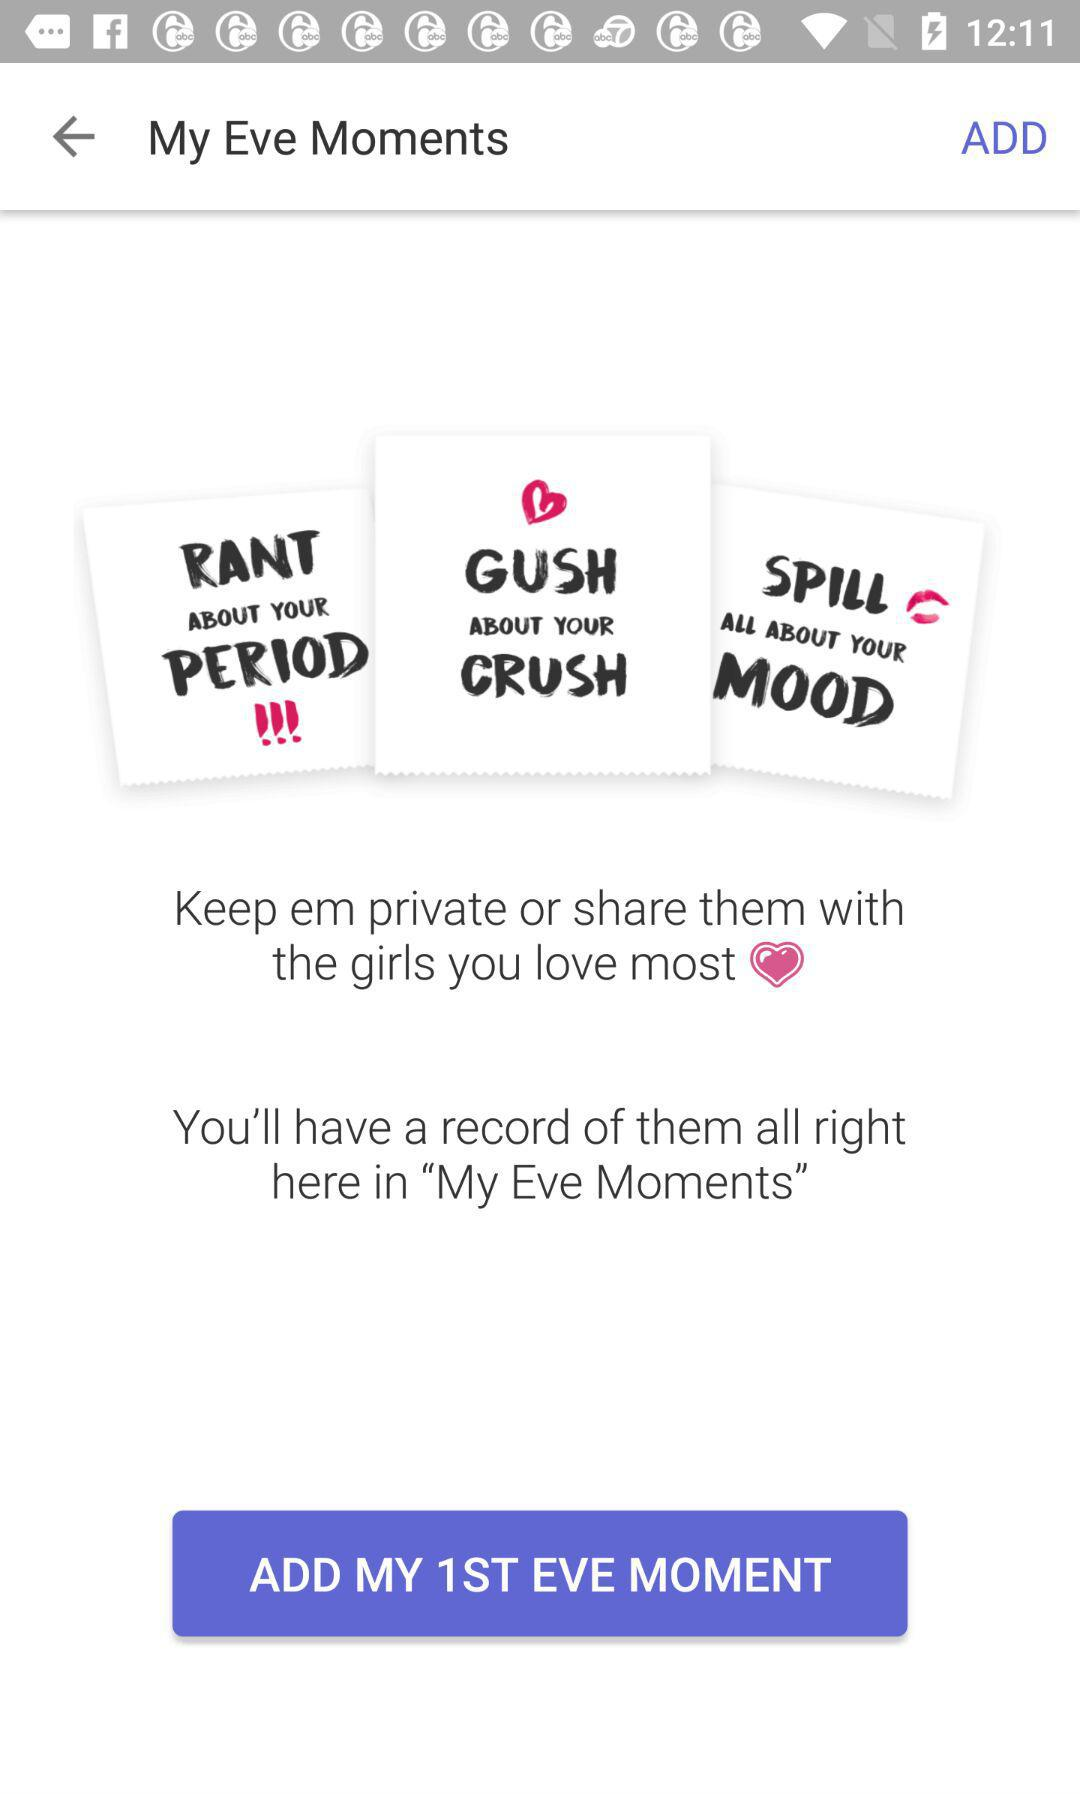Icon: (53, 117, 96, 159)
Image: (81, 432, 985, 801)
Text: (173, 1108, 906, 1210), (177, 889, 903, 991), (151, 120, 509, 167), (961, 120, 1047, 156)
TextButton: (173, 1510, 908, 1636)
Toolbar: (1, 65, 1080, 211)
UpperTaskBar: (1, 1, 1080, 64)
